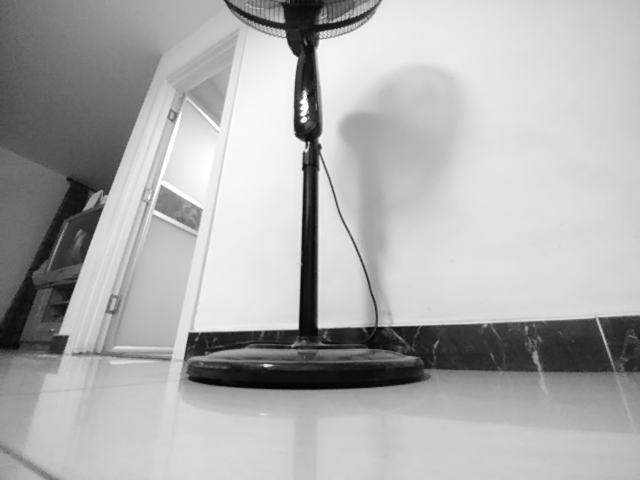bar stool: (187, 313, 430, 390)
